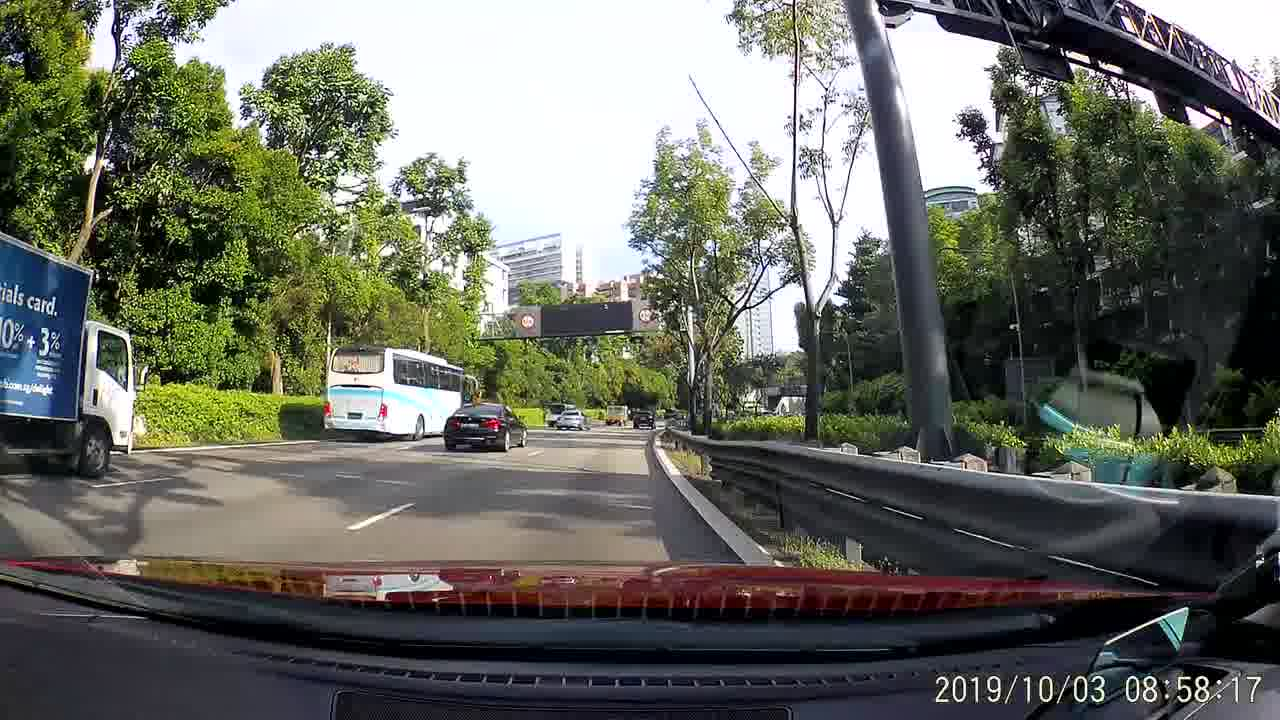car: (322, 339, 479, 441), (440, 398, 530, 455), (553, 410, 589, 432), (629, 410, 657, 429)
